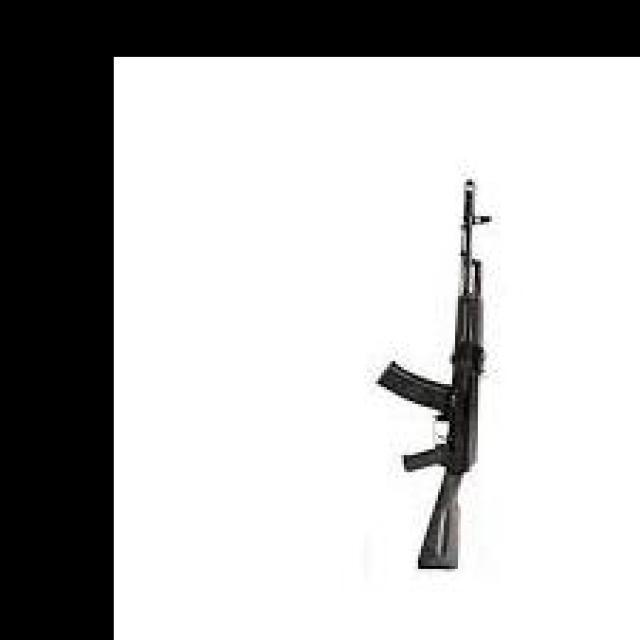weapon: (376, 176, 494, 574)
